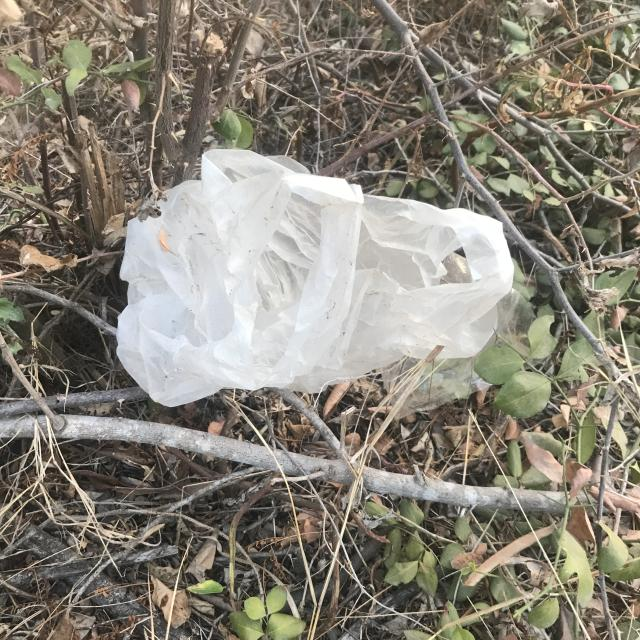Single-layer Plastic: (118, 150, 514, 406)
